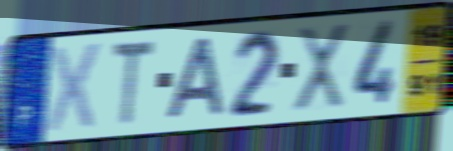2: (224, 26, 285, 124)
4: (350, 17, 400, 111)
A: (163, 34, 227, 123)
T: (109, 37, 157, 129)
X: (45, 39, 104, 135), (293, 21, 350, 116)
